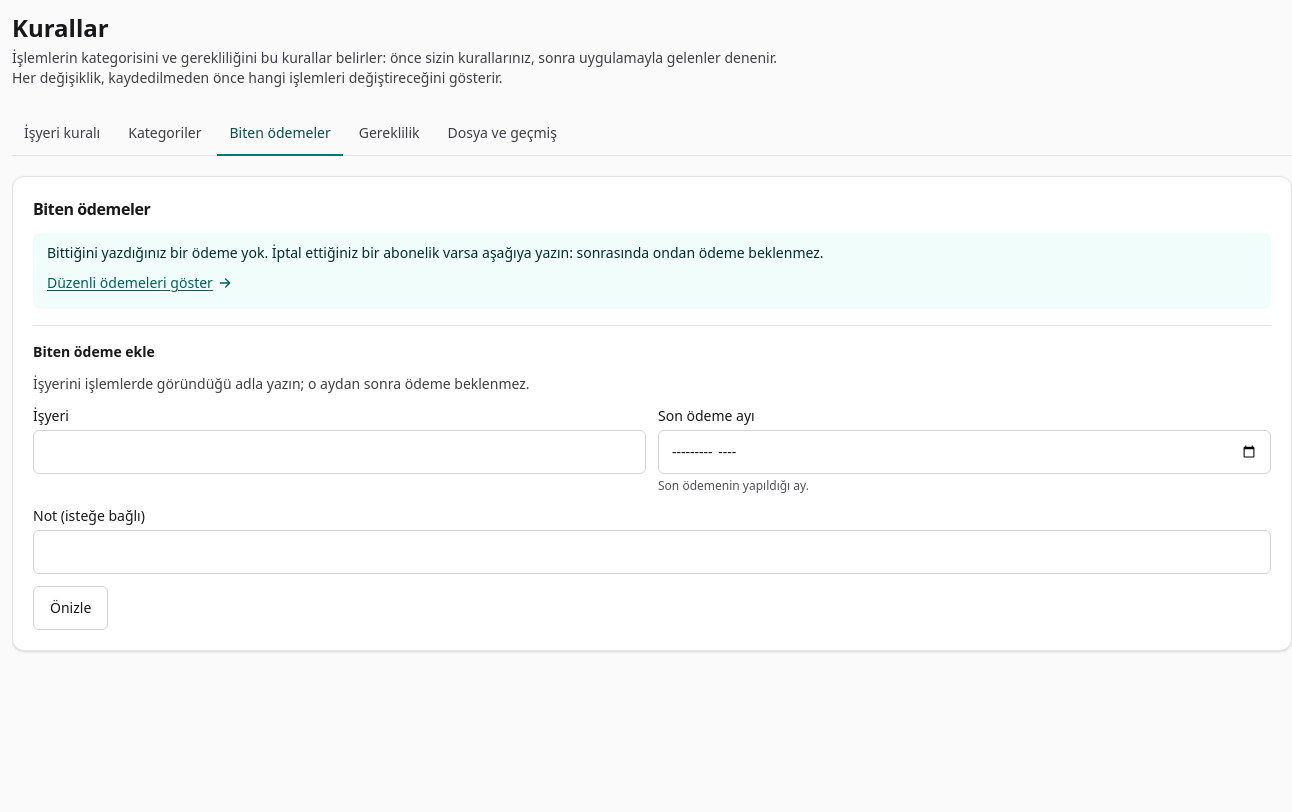
it: RulesPage: what the rules hold › says what is empty before the user has rules of their own
Expected: the text "Bittiğini yazdığınız bir ödeme yok." is shown, [47,243,824,262]
Click the tab "Gereklilik" at (389, 134), box [347,112,432,156]
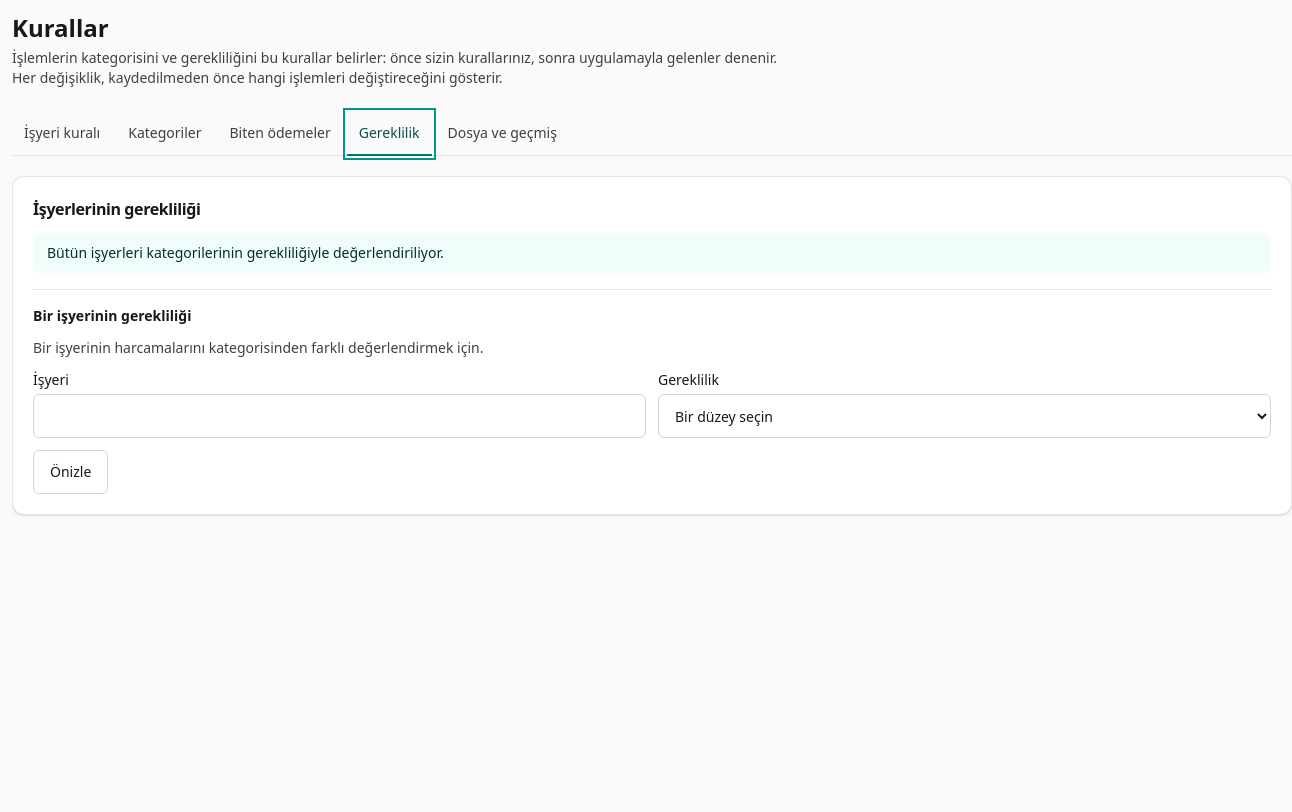
Expected: the text "Bütün işyerleri kategorilerinin gerekliliğiyle değerlendiriliyor." is shown, [47,243,444,263]
Click the tab "Dosya ve geçmiş" at (502, 134), box [436,112,569,156]
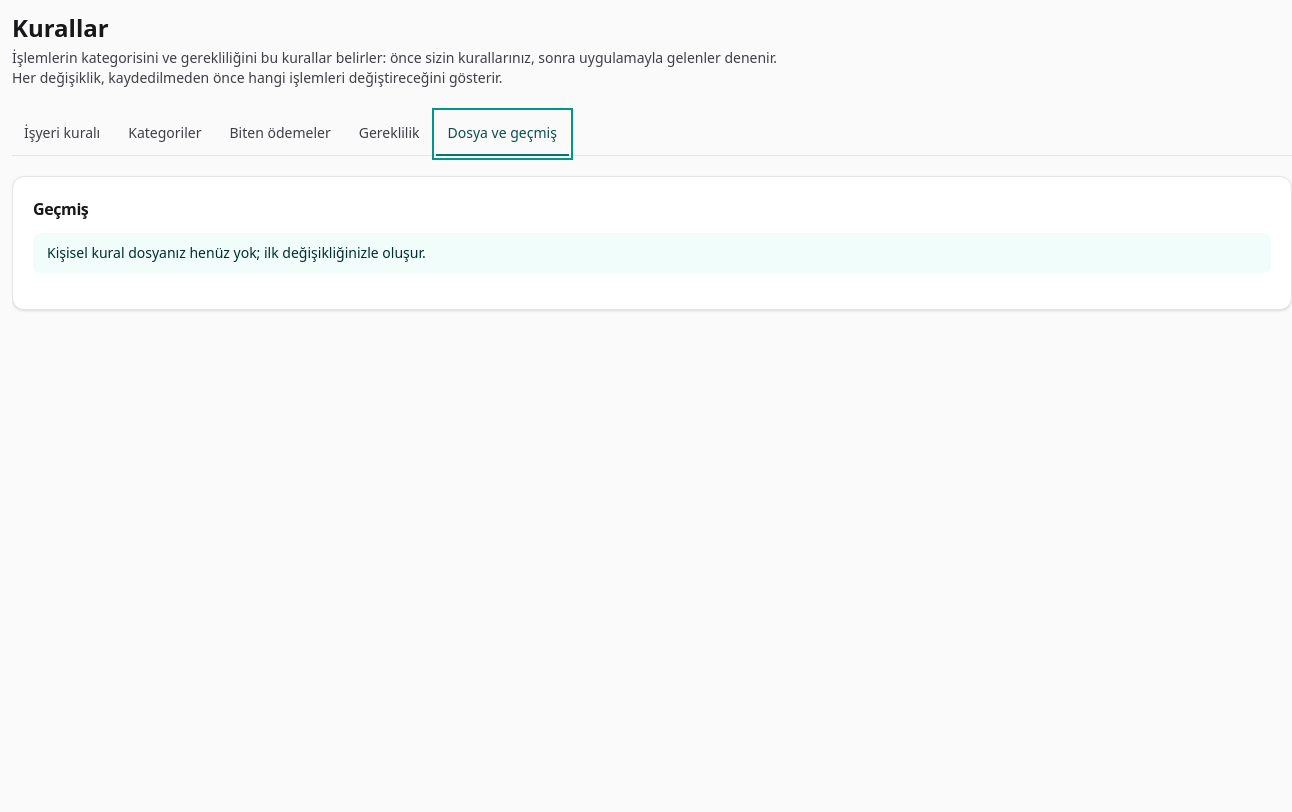
Expected: the text "Kişisel kural dosyanız henüz yok;" is shown, [47,243,426,262]
